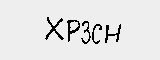З: (81, 17, 90, 47)
Н: (102, 22, 121, 45)
Р: (66, 18, 82, 44)
С: (89, 22, 105, 45)
Х: (43, 16, 65, 42)
